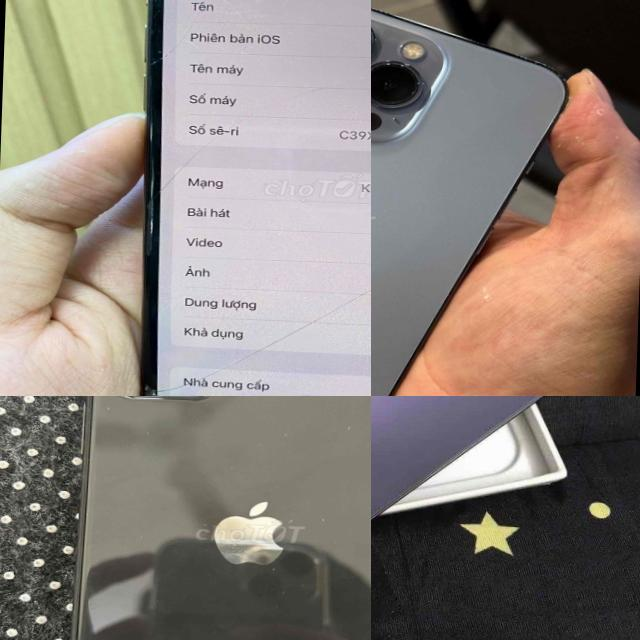gen_11: (49, 396, 371, 640)
gen_12_13: (371, 0, 582, 396)
gen_14: (371, 396, 576, 640)
gen_x_xs: (90, 0, 371, 396)
physical_damage: (124, 0, 371, 396)
